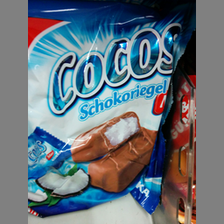chocolate: (29, 3, 183, 212)
